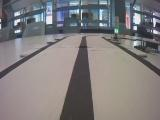tl_green: (114, 16, 119, 34)
